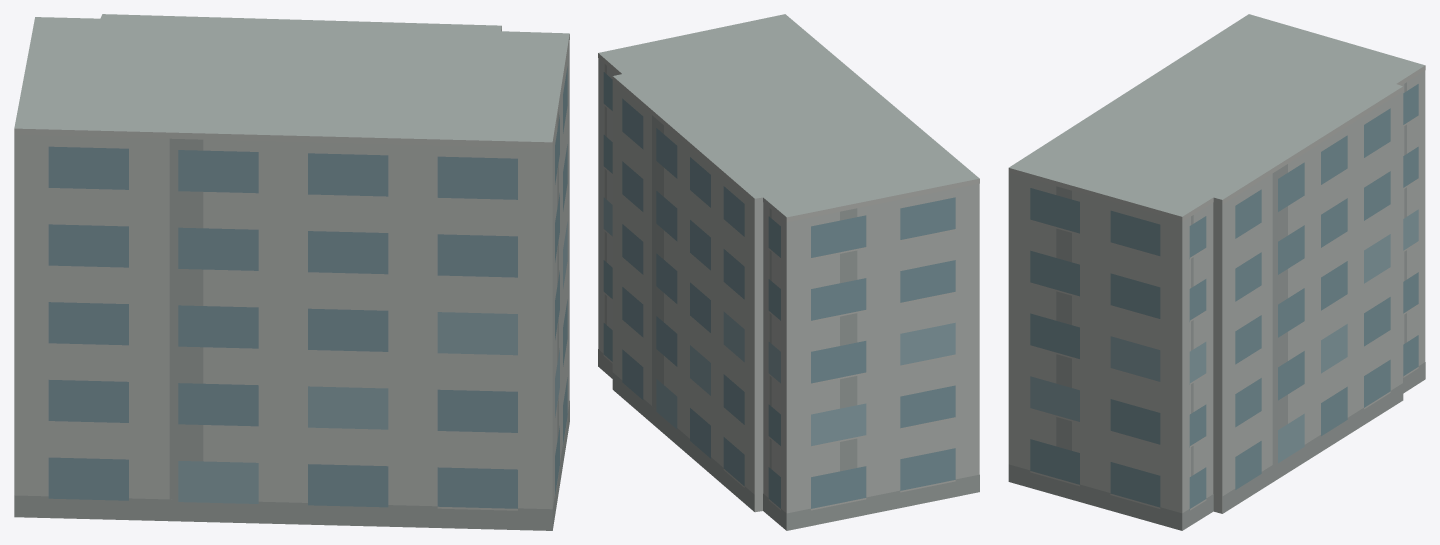
File: survey-upis-32474006.glb
3 renders of one model, left to right at view 1: azimuth 30°, elevation 25°; view 2: azimuth 150°, elevation 25°; view 3: azimuth 270°, elevation 25°, orthographic. The views are drawn at different scales.
Visible parts, largest first — view 1: survey-upis-32474006.tmp; view 2: survey-upis-32474006.tmp; view 3: survey-upis-32474006.tmp.
Boxes of the visible parts, x1=… form: survey-upis-32474006.tmp: x1=14, y1=14, x2=569, y2=530; survey-upis-32474006.tmp: x1=598, y1=14, x2=979, y2=530; survey-upis-32474006.tmp: x1=1008, y1=14, x2=1425, y2=530.
Bounding box in the file's own units: 21.13 × 15.25 × 18.35.
